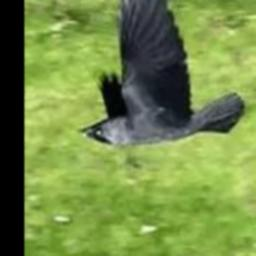Crow: (79, 0, 246, 149)
